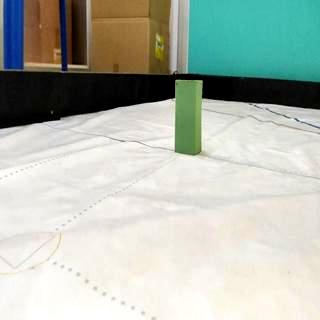greenbox: (174, 80, 203, 154)
